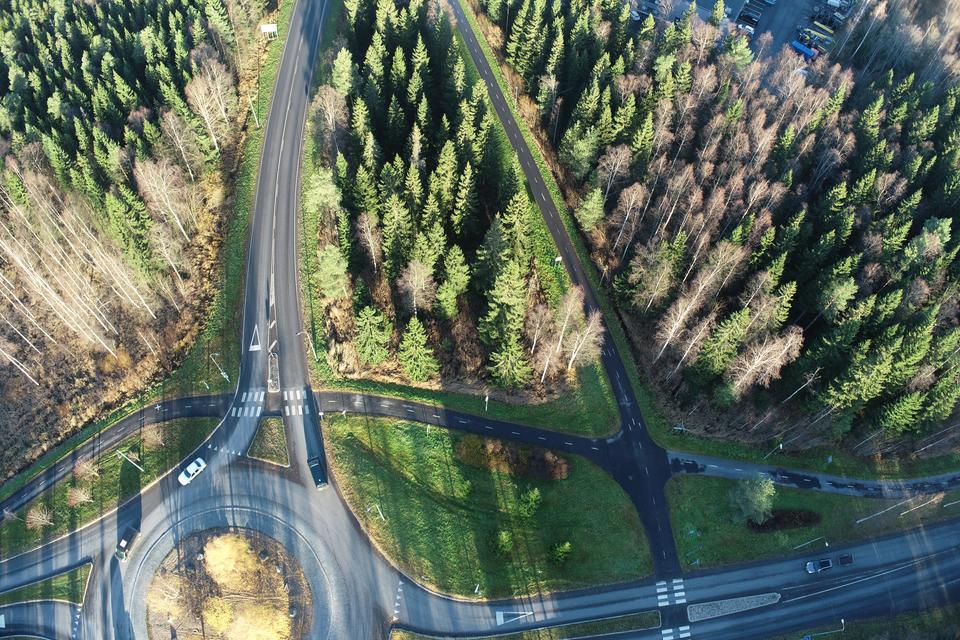intersection: (630, 554, 718, 640), (203, 378, 354, 424)
roundabout: (44, 429, 472, 640)
